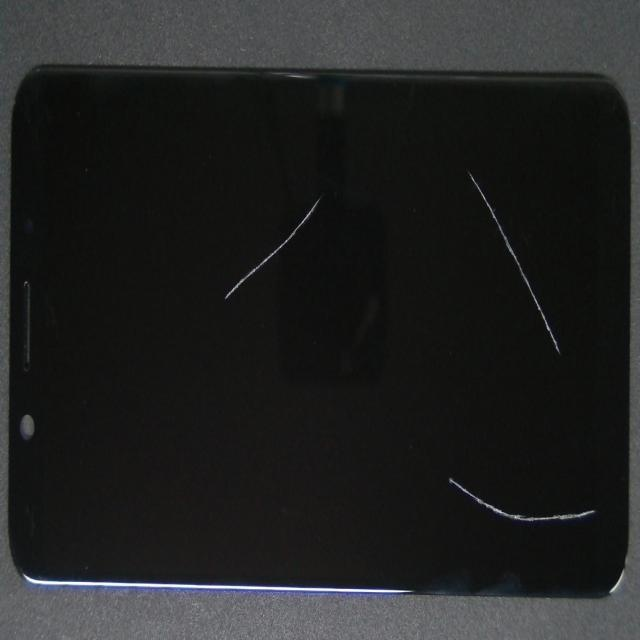scratch: (387, 269, 640, 640), (214, 31, 424, 329), (343, 274, 640, 418)
